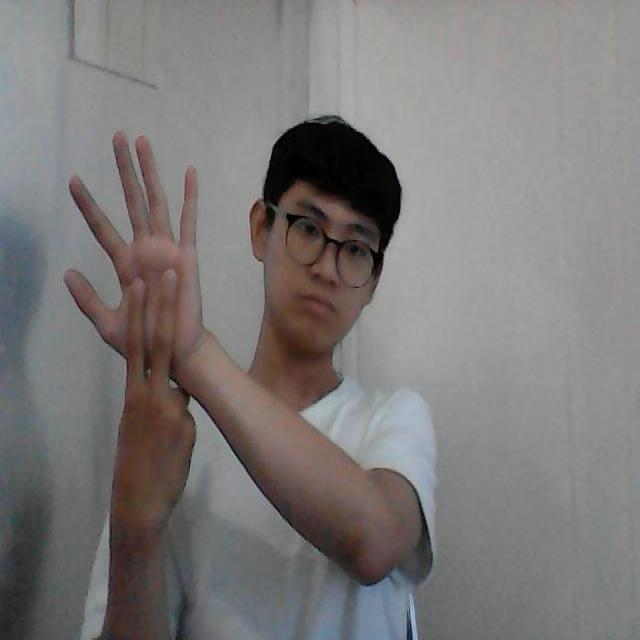N: (58, 122, 210, 432)
